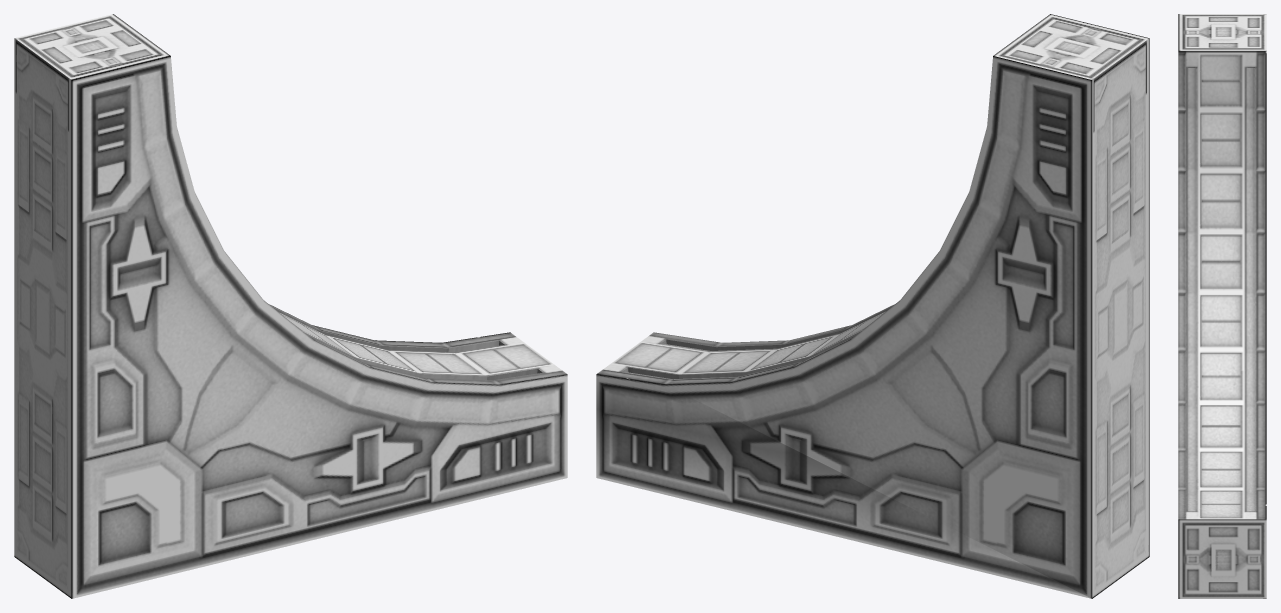
Rendered from Slope3.fbx.
The picture shows the model from 3 angles, left to right: view 1: azimuth 30°, elevation 25°; view 2: azimuth 150°, elevation 25°; view 3: azimuth 270°, elevation 25°; orthographic projection. The views are drawn at different scales.
Visible parts, largest first — view 1: Slope12; view 2: Slope12; view 3: Slope12.
Boxes of the visible parts, <box> form: Slope12: <box>14,14,567,598</box>; Slope12: <box>596,14,1149,598</box>; Slope12: <box>1178,14,1266,598</box>.
Size of the model in its own units: 5 by 5 by 1.
